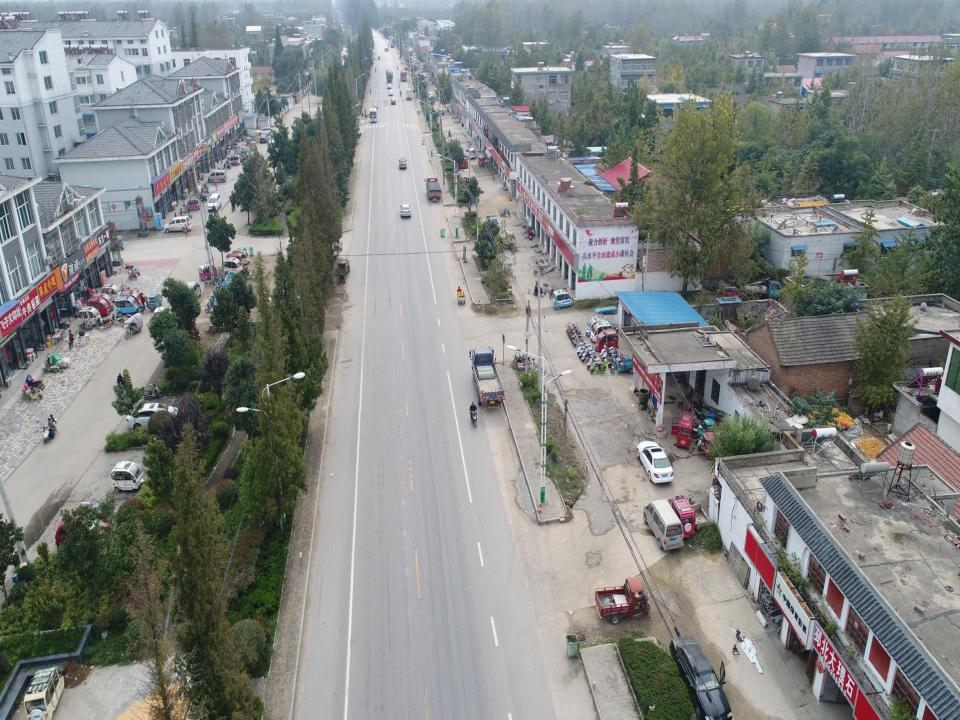bus: (370, 107, 378, 123)
car: (670, 634, 733, 720), (54, 514, 115, 554), (636, 439, 675, 483), (125, 401, 179, 432), (152, 304, 172, 340), (181, 278, 202, 308), (162, 215, 191, 236), (464, 147, 478, 161), (399, 203, 412, 218), (255, 127, 273, 136), (397, 156, 407, 170), (259, 133, 269, 144), (427, 90, 434, 100), (390, 98, 396, 106), (373, 102, 378, 110), (386, 83, 392, 89), (388, 90, 393, 96)
truck: (468, 343, 506, 411), (740, 276, 786, 306), (491, 230, 518, 252), (423, 176, 442, 202), (385, 68, 394, 82), (400, 70, 407, 82), (390, 42, 394, 48)
van: (642, 498, 682, 550), (721, 282, 746, 304), (207, 168, 227, 183), (208, 192, 221, 211), (384, 47, 389, 53), (420, 66, 424, 73), (389, 34, 394, 38)
